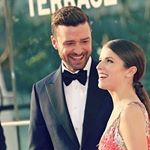other: (59, 34, 95, 73)
